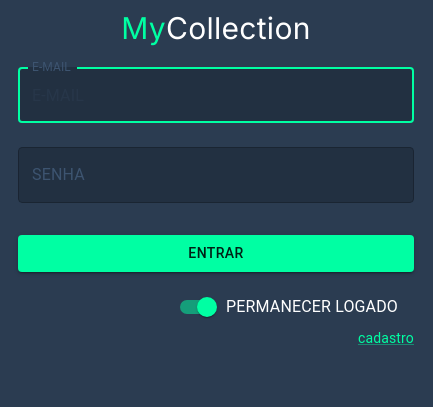
Test: Verifica se há erro quando senha não possui pelo menos 8 caracteres
In the password field with placeholder "SENHA": (216, 175) [18,147,414,203], type "1234567"
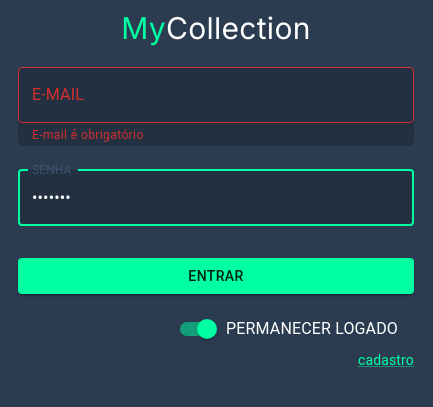
Click the button: (216, 276) [18,258,414,294]
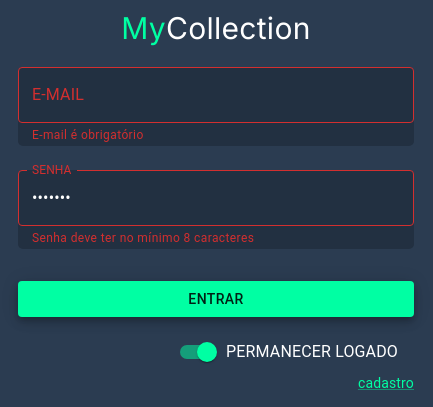
expect the text "Senha deve ter no mínimo 8 caracteres" is shown: met, box [32,231,254,245]
